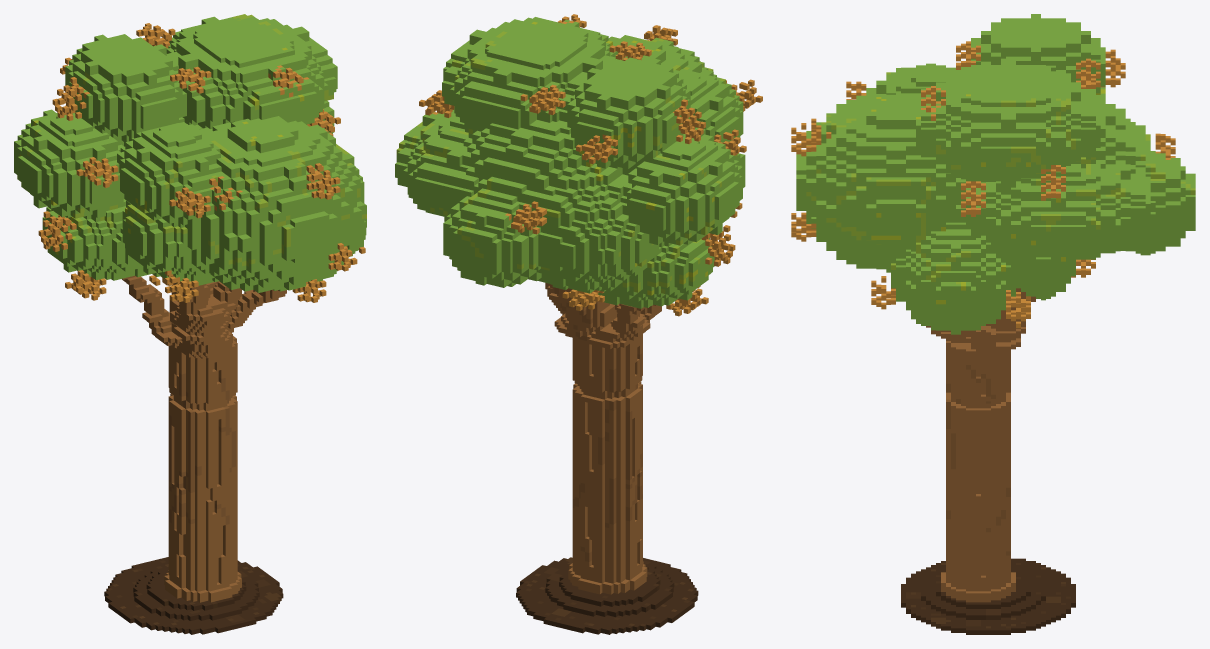
File: Arbórea - Pitomba.obj
The picture shows the model from 3 angles, left to right: view 1: azimuth 30°, elevation 25°; view 2: azimuth 150°, elevation 25°; view 3: azimuth 270°, elevation 25°; orthographic projection.
Bounding box in the file's own units: 7 × 12 × 8.1.
1 material, 1 textured.
